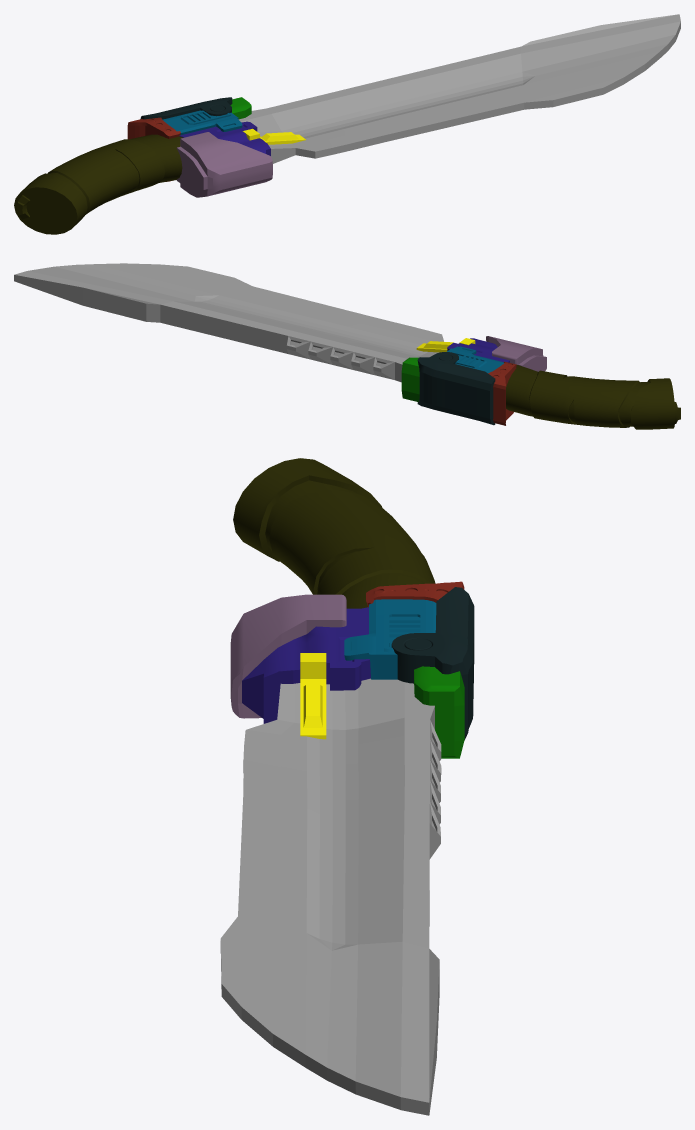
The model's file is Swordmachete.obj.
3 views of the same model, one above another, from view 1: azimuth 30°, elevation 25°; view 2: azimuth 150°, elevation 25°; view 3: azimuth 270°, elevation 25° (orthographic). The views are drawn at different scales.
Visible parts, largest first — view 1: pCube1, pCylinder1, pPlane3, polySurface8, pPlane9, pCylinder4, polySurface7, pCube4, pPlane11; view 2: pCube1, pCylinder1, pCylinder4, pPlane3, polySurface7, pPlane11, polySurface8, pPlane9, pCube4; view 3: pCube1, pCylinder1, pPlane9, pPlane3, pCylinder4, polySurface8, pPlane11, pCube4, polySurface7.
Part boxes in pixels (x1,y1,x2,y2): pCube1: (238,14,680,163); pCylinder1: (14,134,182,234); pPlane3: (176,132,272,197); polySurface8: (162,110,242,135); pPlane9: (179,121,270,155); pCylinder4: (140,97,232,119); polySurface7: (127,117,180,181); pCube4: (242,128,305,144); pPlane11: (230,97,251,119); pCube1: (14,263,443,382); pCylinder1: (506,365,680,429); pCylinder4: (417,352,495,425); pPlane3: (486,336,546,371); polySurface7: (488,361,516,425); pPlane11: (401,357,419,401); polySurface8: (447,346,503,373); pPlane9: (447,338,509,362); pCube4: (416,338,475,352); pCube1: (220,678,441,1115); pCylinder1: (233,458,435,608); pPlane9: (242,607,370,723); pPlane3: (230,594,346,718); pCylinder4: (391,587,474,740); polySurface8: (344,599,436,679); pPlane11: (414,666,464,758); pCube4: (300,653,326,739); polySurface7: (366,581,464,606).
Bounding box in the file's own units: 20.57 × 1.44 × 3.53.
